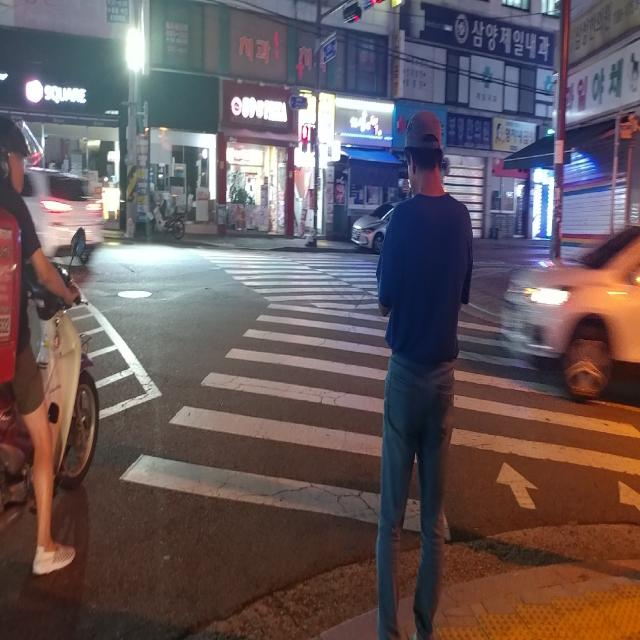횡단보도: (119, 246, 640, 539)
